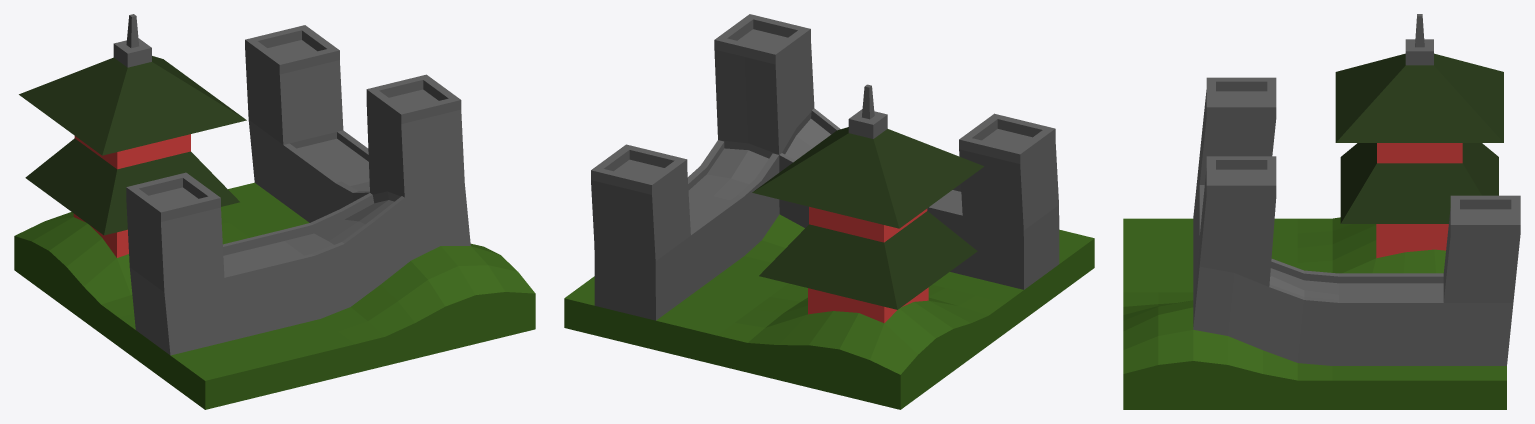
The model's file is muralha.fbx.
3 renders of one model, left to right at view 1: azimuth 30°, elevation 25°; view 2: azimuth 150°, elevation 25°; view 3: azimuth 270°, elevation 25°, orthographic.
Visible parts, largest first — view 1: muralha; view 2: muralha; view 3: muralha.
Boxes of the visible parts, left/top/right/bottom form: muralha: left=14, top=14, right=535, bottom=409; muralha: left=564, top=14, right=1094, bottom=409; muralha: left=1123, top=14, right=1520, bottom=409.
Bounding box in the file's own units: 202 × 155 × 207.
